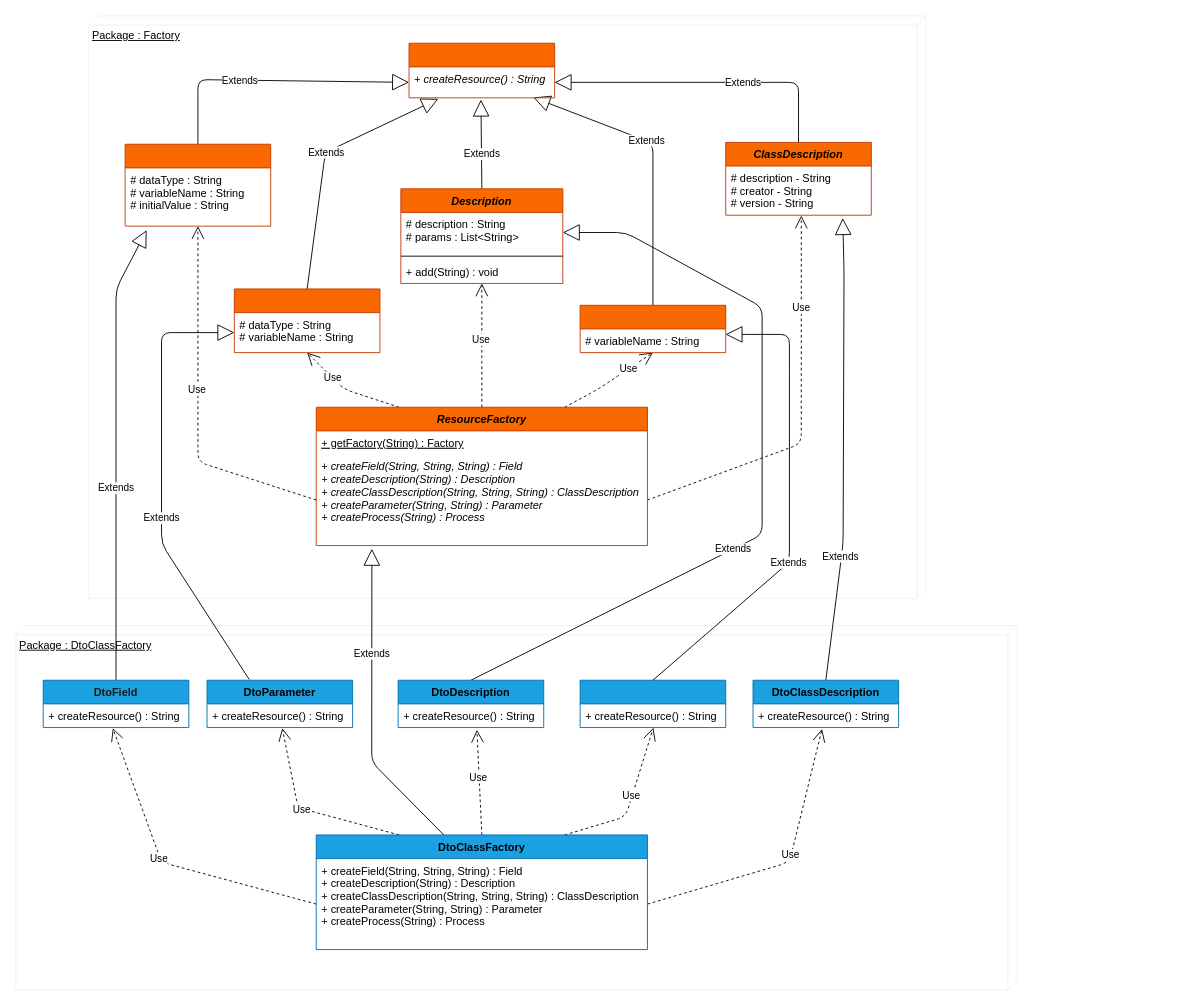
This 1188x1006 diagram has some shape labels left out. The shapes that lost their labels are listed below. From the top down, each one's box as (x1, y1, x2, y2) in pixels, then its label:
(408, 42, 555, 98): Component
(124, 143, 271, 226): Field
(233, 288, 380, 353): Parameter
(579, 304, 726, 353): Process
(579, 679, 726, 728): DtoProcess
